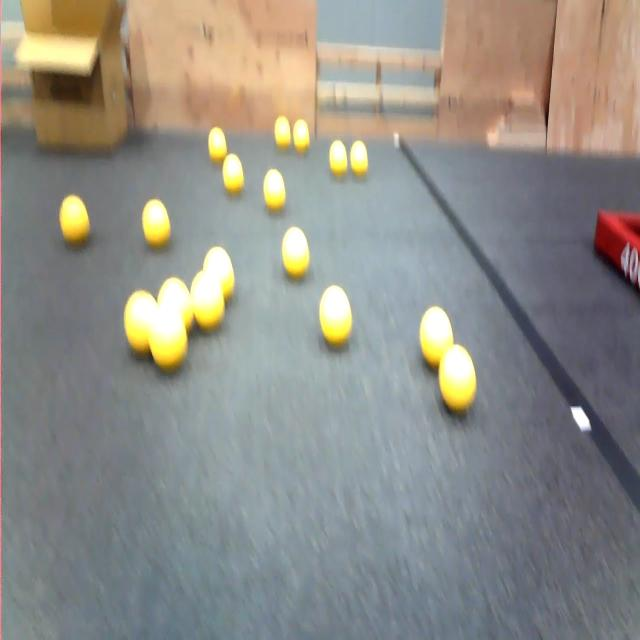fuel: (439, 345, 476, 413), (149, 305, 187, 371), (124, 290, 157, 355), (420, 307, 453, 368), (191, 271, 225, 330), (320, 286, 352, 347), (158, 277, 193, 331), (203, 247, 234, 301), (59, 195, 89, 245), (282, 227, 309, 279), (142, 199, 170, 247), (263, 169, 285, 212), (222, 154, 243, 193), (329, 141, 348, 176), (208, 128, 227, 162), (350, 141, 368, 176), (293, 119, 310, 153), (274, 116, 291, 149)
